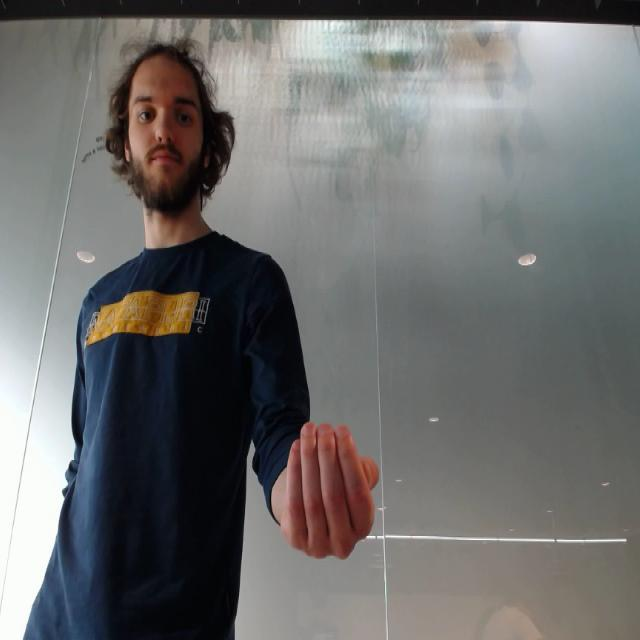forward: (280, 414, 392, 566)
